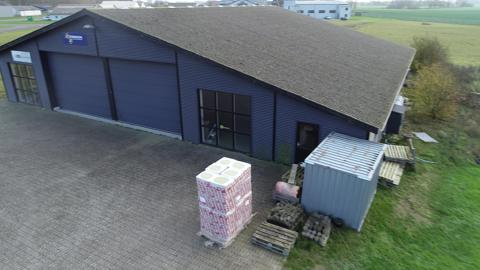RockwoolPallet: (195, 156, 254, 245)
